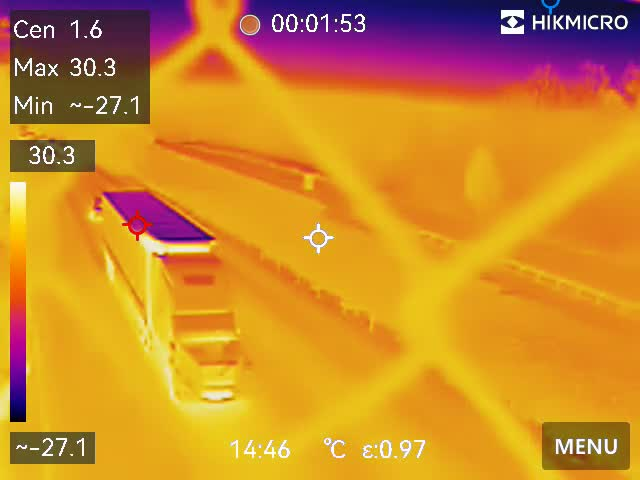heavyTruck: (99, 185, 254, 407)
